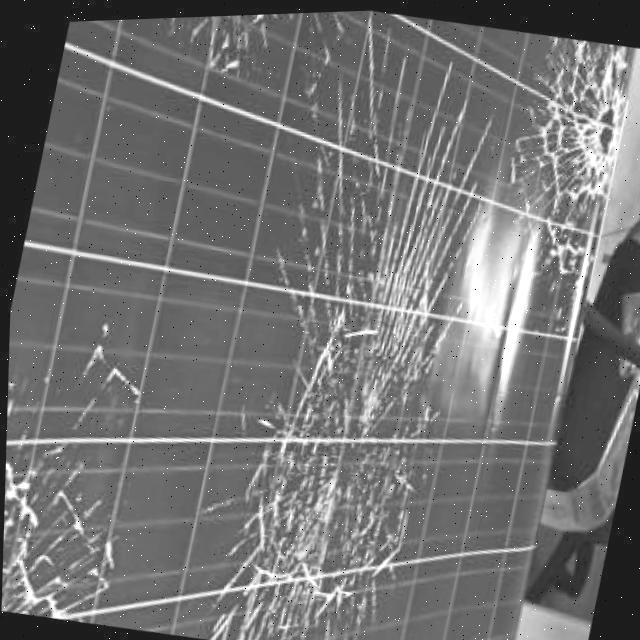Anomaly Solar Panel: (1, 8, 636, 640)
Structural Damage: (199, 76, 507, 640), (485, 33, 634, 283), (1, 432, 136, 622), (134, 10, 301, 92)
